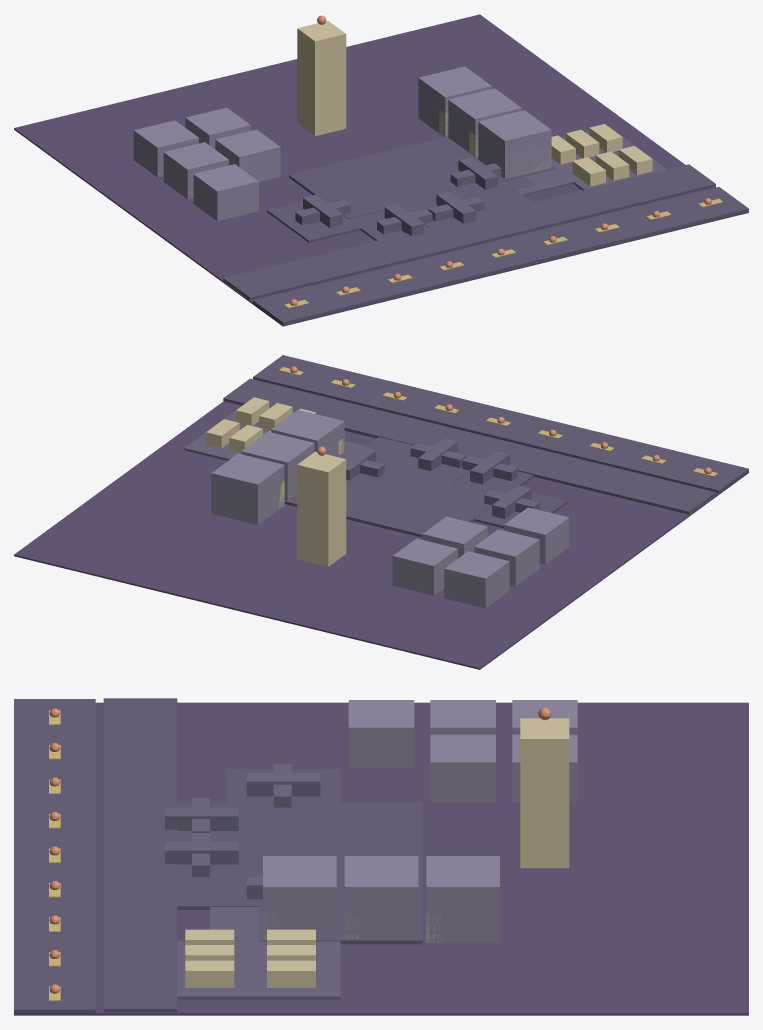
File: stage_21.glb
The picture shows the model from 3 angles, top to bottom: view 1: azimuth 30°, elevation 25°; view 2: azimuth 150°, elevation 25°; view 3: azimuth 270°, elevation 25°; orthographic projection. The views are drawn at different scales.
Parts seen in each view (by area): view 1: geometry_0; view 2: geometry_0; view 3: geometry_0.
Boxes of the visible parts, x1,y1,x2,y2 form: geometry_0: [14, 14, 748, 326]; geometry_0: [14, 355, 748, 669]; geometry_0: [14, 698, 748, 1015].
Size of the model in its own units: 9 by 2.06 by 9.
